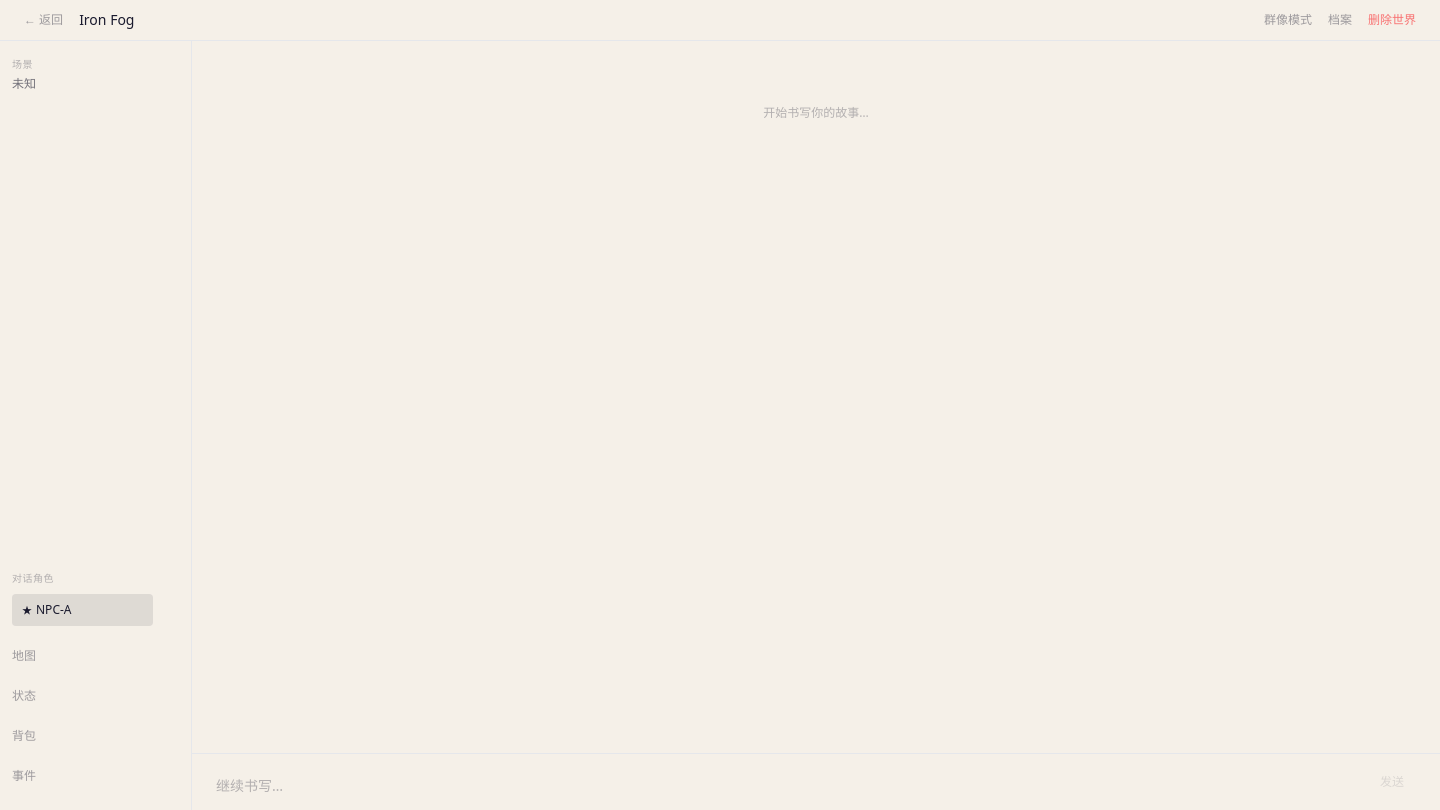
Test: shows map panel when clicking map button
Expected: the heading "Iron Fog" is shown, [79, 10, 134, 29]
Click the button "地图": (96, 656) [12, 638, 179, 674]
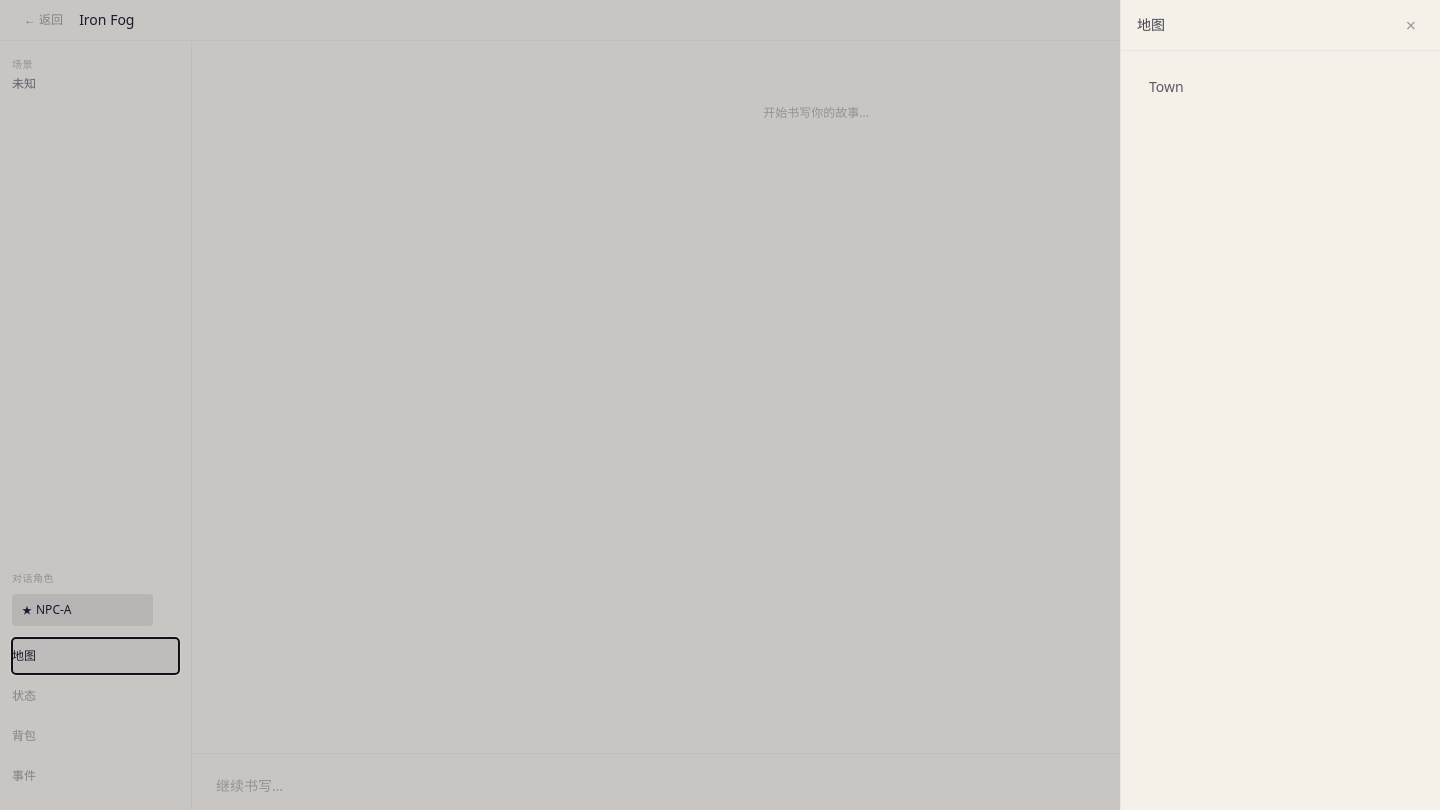
Expected: the text "Town" is shown, [1149, 77, 1184, 96]
